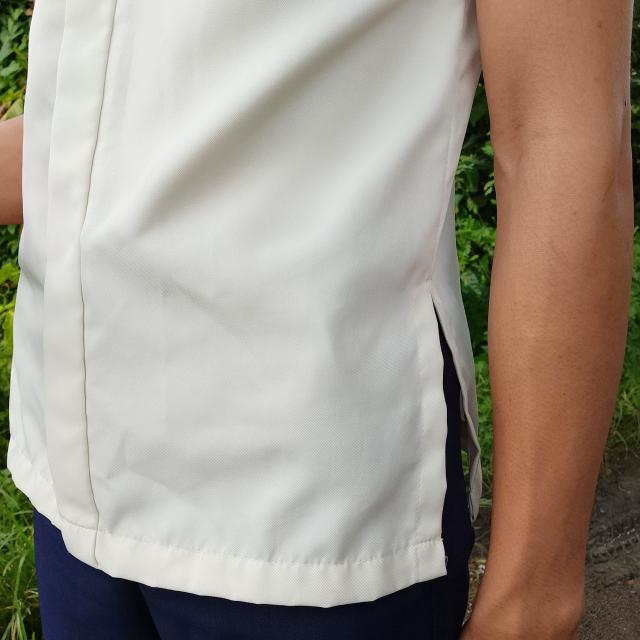education_male_uniform: (0, 0, 497, 628)
